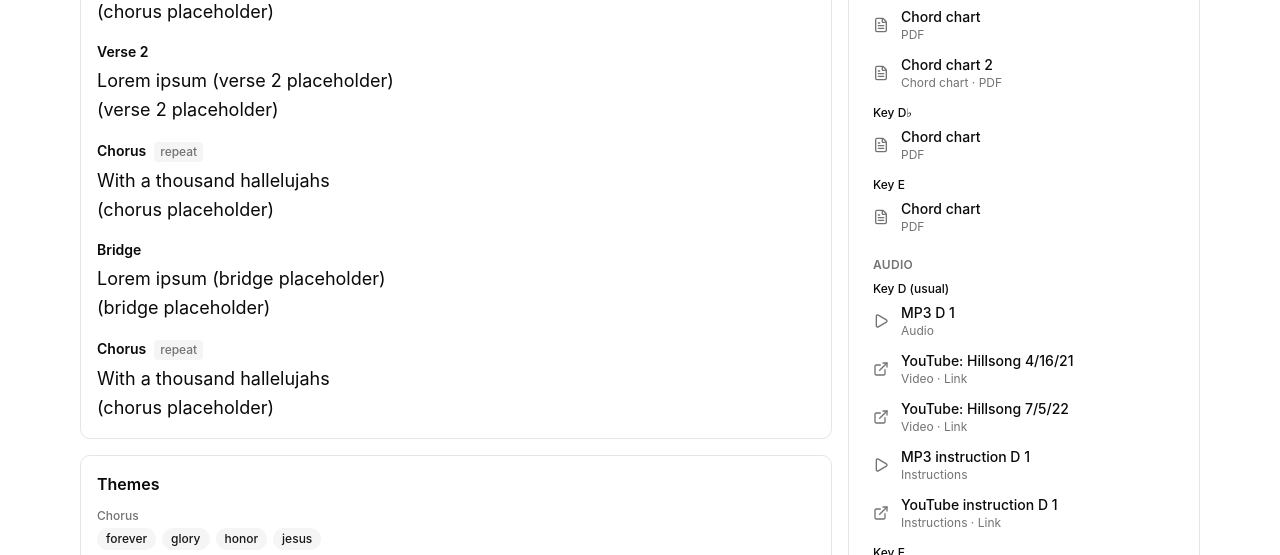
it: SongPageGallery › plays audio from the fake signer
(page scrolled)
Click the button "MP3 D 1 Audio" at (928,312), box top-left (865, 297), bottom-right (1183, 345)
(page scrolled)
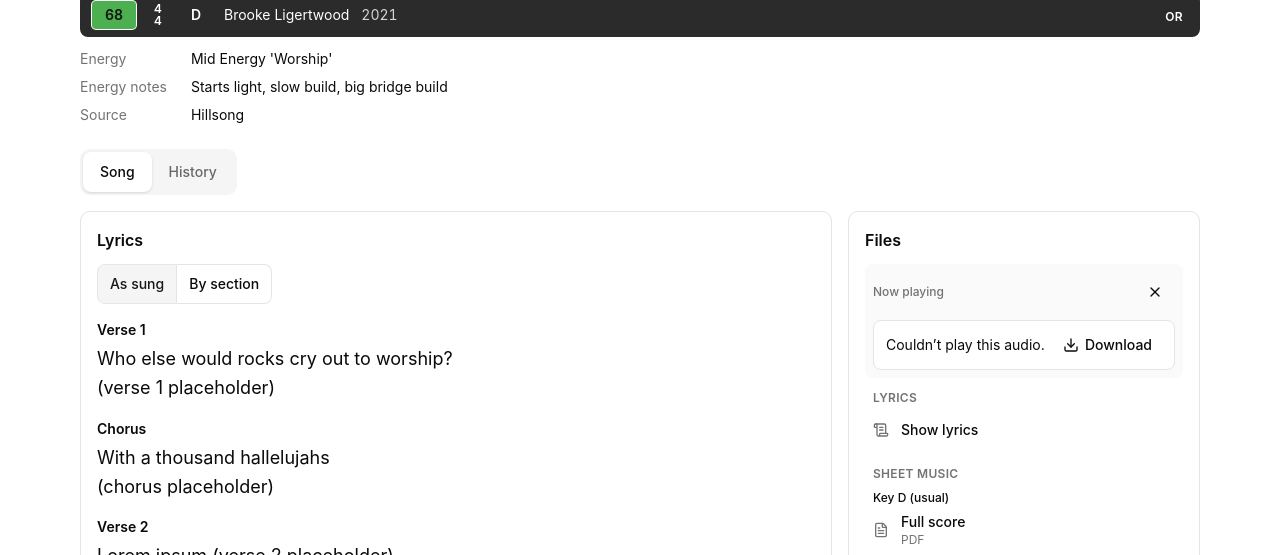
Expected: the element with test id "now-playing" is shown, top-left (865, 264), bottom-right (1183, 378)
